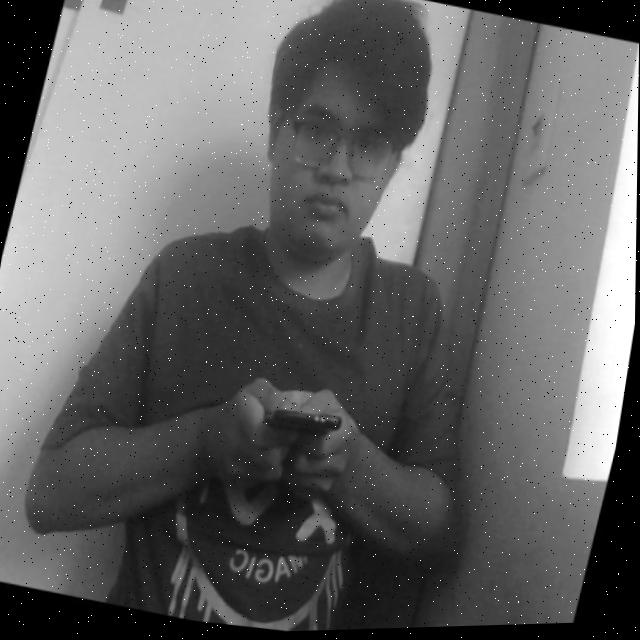phone: (242, 368, 359, 473)
